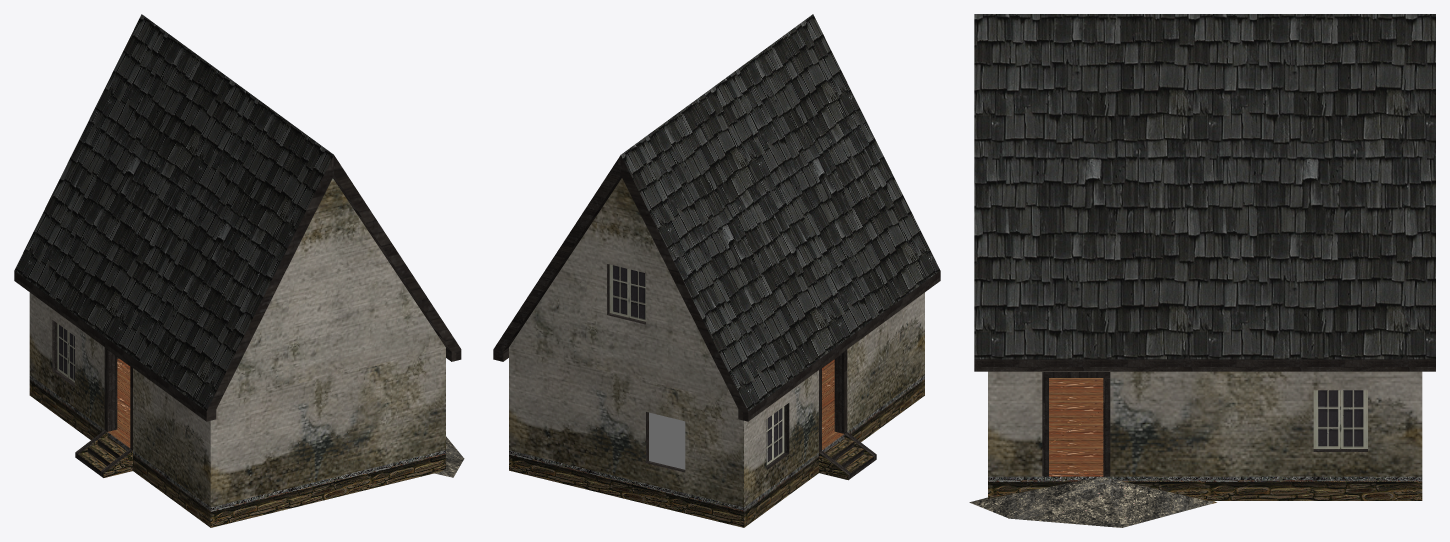
File: TownHouse_04.dae
3 renders of one model, left to right at view 1: azimuth 30°, elevation 25°; view 2: azimuth 150°, elevation 25°; view 3: azimuth 270°, elevation 25°, orthographic. The views are drawn at different scales.
Parts seen in each view (by area): view 1: BSP.011; view 2: BSP.011; view 3: BSP.011.
Part boxes in pixels (x1,y1,x2,y2): BSP.011: (14, 14, 464, 527); BSP.011: (493, 14, 940, 527); BSP.011: (969, 14, 1435, 527).
Bounding box in the file's own units: 9.42 × 10.32 × 10.24.
